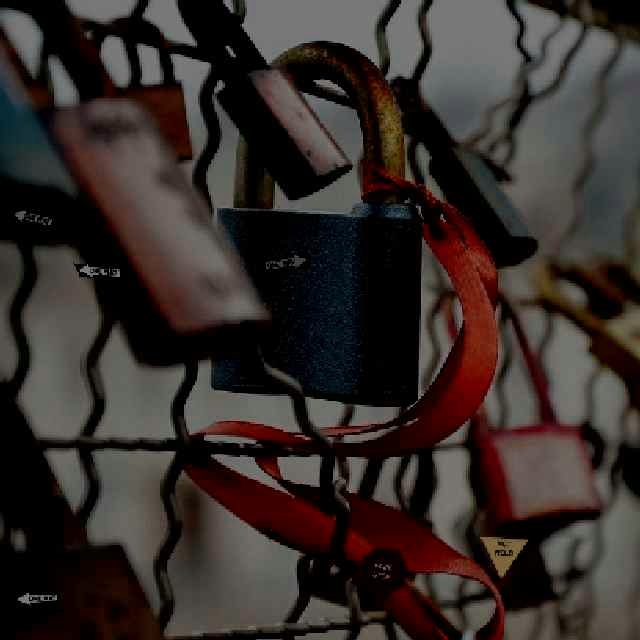FAKE_STOP: (356, 545, 406, 595)
NOT_YIELD: (478, 534, 528, 579)
ONE_WAY_ left: (6, 205, 56, 229), (72, 261, 122, 279), (9, 590, 59, 606)
ONE_WAY_ right: (260, 250, 310, 273)
